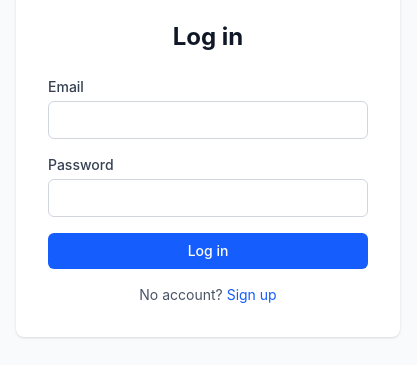
it: LoginPage › only flags the missing password when the email is filled in
Type "demo@example.com" into the field labelled "Email" at {"x": 208, "y": 120}, box [48,101,368,139]
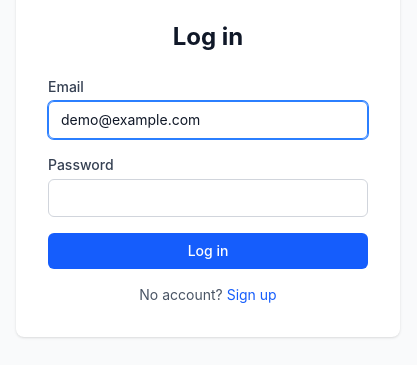
Click the button "Log in" at {"x": 208, "y": 251}, box [48,233,368,269]
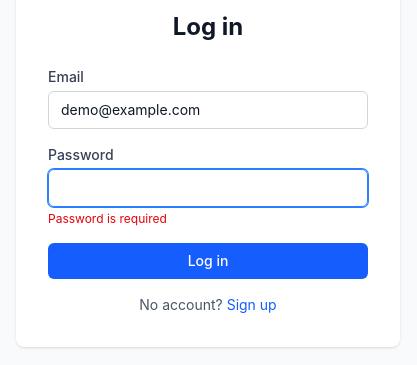
Expected: the text "Password is required" is shown, [48,211,167,226]
